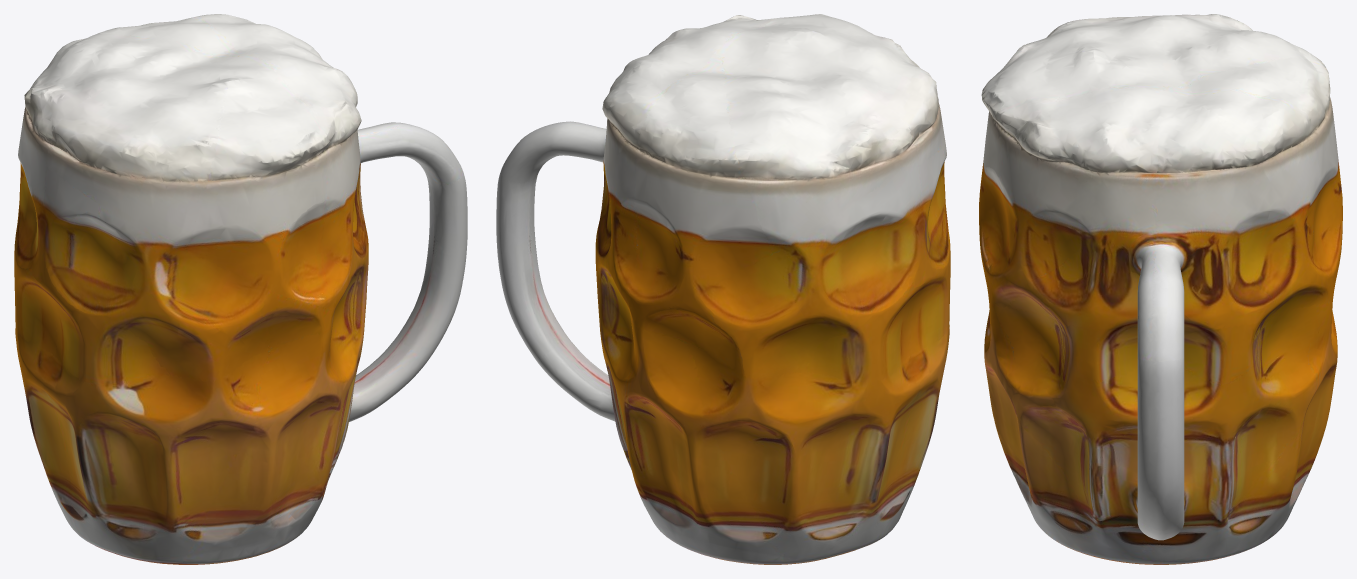
Rendered from beer_mug.glb.
3 renders of one model, left to right at view 1: azimuth 30°, elevation 25°; view 2: azimuth 150°, elevation 25°; view 3: azimuth 270°, elevation 25°, orthographic.
Parts seen in each view (by area): view 1: mesh_node; view 2: mesh_node; view 3: mesh_node.
Boxes of the visible parts, bbox=[...] form: mesh_node: bbox=[14, 14, 467, 564]; mesh_node: bbox=[496, 14, 950, 564]; mesh_node: bbox=[979, 14, 1342, 564].
Bounding box in the file's own units: 1.84 × 1.9 × 1.34.
1 material, 1 textured.
